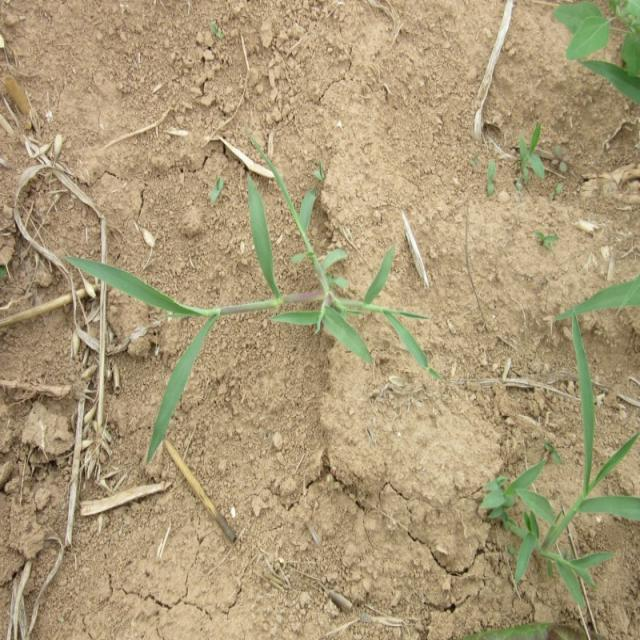bg: (62, 167, 446, 457)
